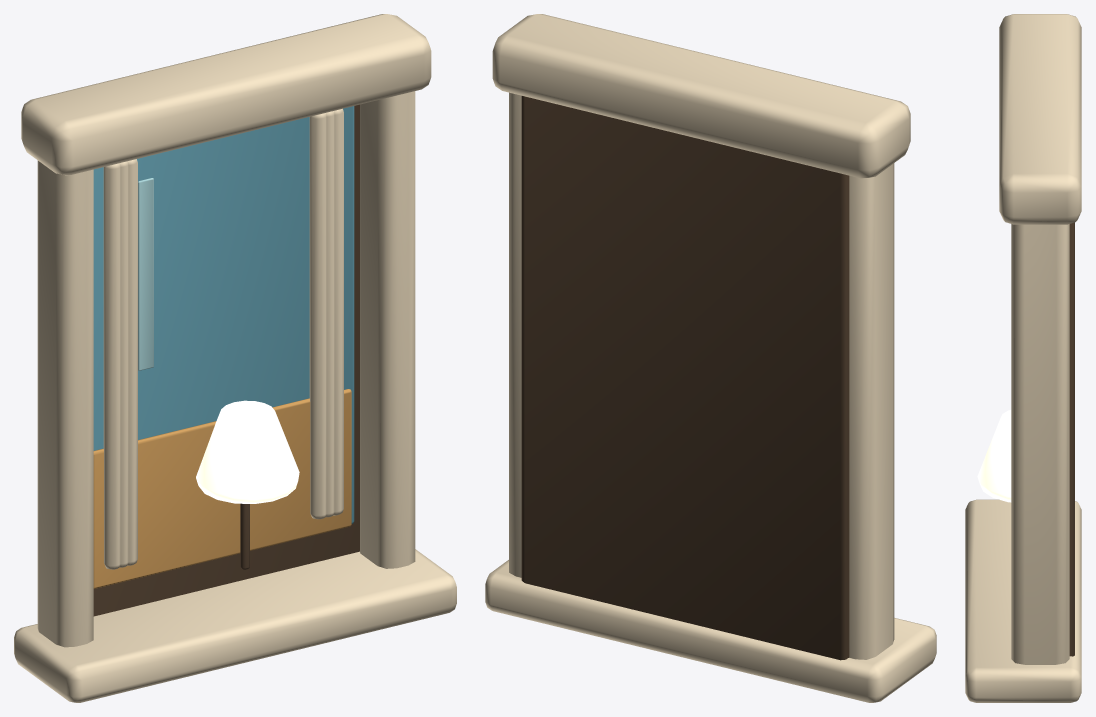
The model's file is WindowUpper2m.fbx.
3 views of the same model, side by side, from view 1: azimuth 30°, elevation 25°; view 2: azimuth 150°, elevation 25°; view 3: azimuth 270°, elevation 25° (orthographic). The views are drawn at different scales.
Visible parts, largest first — view 1: WindowUpper2m_Trim, WindowUpper2m_Glass, WindowUpper2m_WarmGlass, WindowUpper2m_DarkWood, WindowUpper2m_Glow, WindowUpper2m_Reflection; view 2: WindowUpper2m_DarkWood, WindowUpper2m_Trim; view 3: WindowUpper2m_Trim, WindowUpper2m_DarkWood, WindowUpper2m_Glow.
Boxes of the visible parts, bbox=[...] form: WindowUpper2m_Trim: bbox=[14, 14, 456, 702]; WindowUpper2m_Glass: bbox=[93, 106, 354, 523]; WindowUpper2m_WarmGlass: bbox=[93, 389, 351, 588]; WindowUpper2m_DarkWood: bbox=[93, 104, 359, 616]; WindowUpper2m_Glow: bbox=[196, 400, 299, 503]; WindowUpper2m_Reflection: bbox=[138, 178, 153, 370]; WindowUpper2m_DarkWood: bbox=[521, 96, 849, 660]; WindowUpper2m_Trim: bbox=[485, 14, 936, 702]; WindowUpper2m_Trim: bbox=[965, 14, 1081, 702]; WindowUpper2m_DarkWood: bbox=[1069, 222, 1074, 656]; WindowUpper2m_Glow: bbox=[977, 410, 1011, 502].
Bounding box in the file's own units: 1.72 × 2.38 × 0.48.
